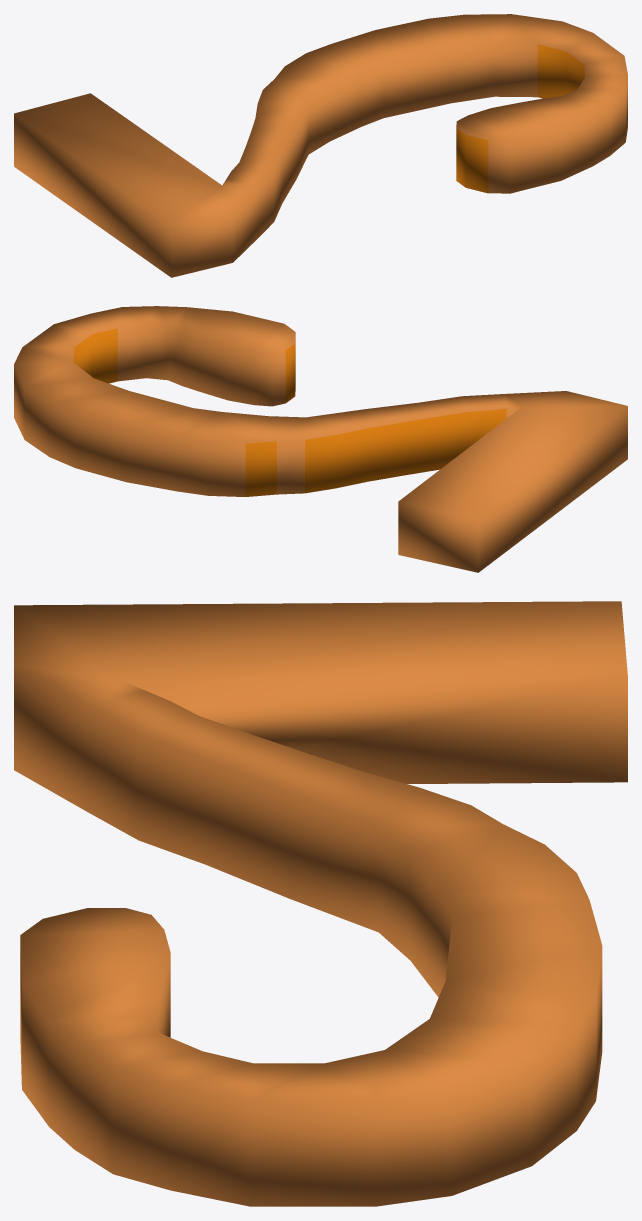
3 views of the same model, one above another, from view 1: azimuth 30°, elevation 25°; view 2: azimuth 150°, elevation 25°; view 3: azimuth 270°, elevation 25° (orthographic). The views are drawn at different scales.
Visible parts, largest first — view 1: _; view 2: _; view 3: _.
Boxes of the visible parts, x1,y1,x2,y2 form: _: (14, 14, 627, 277); _: (14, 306, 627, 572); _: (14, 601, 627, 1206).
Size of the model in its own units: 2.03 by 1.06 by 0.2.
